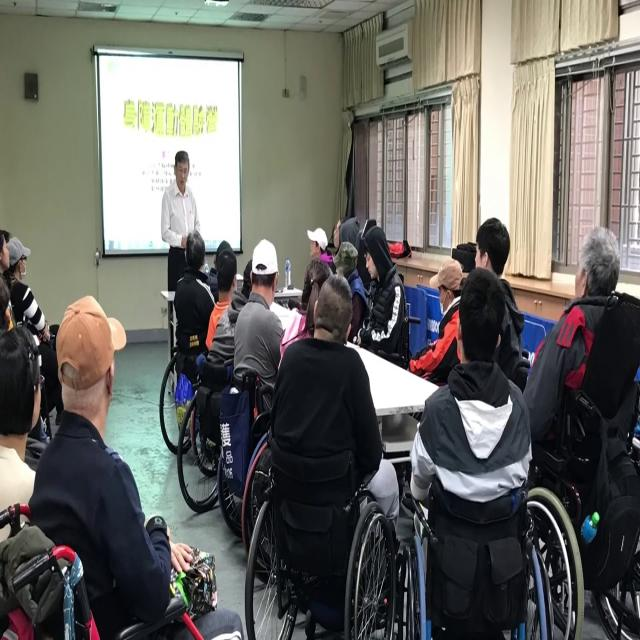wheelchairs: (238, 433, 404, 640), (390, 491, 566, 640), (148, 315, 303, 473), (176, 380, 321, 520)
